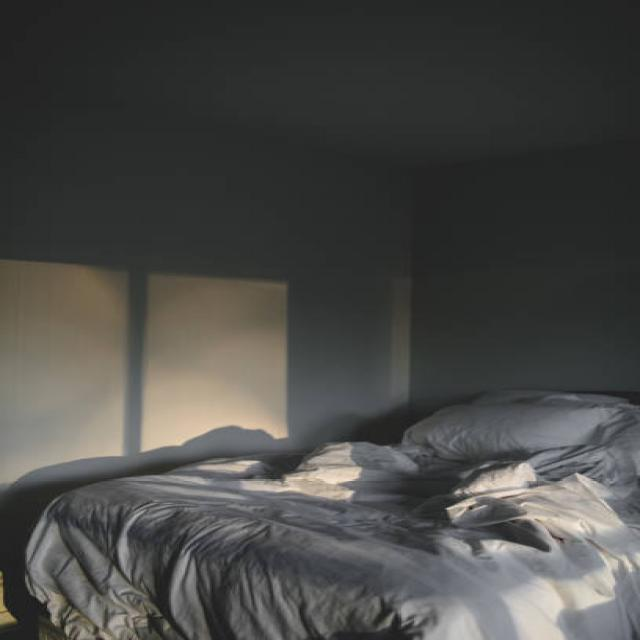bed: (37, 389, 640, 636)
